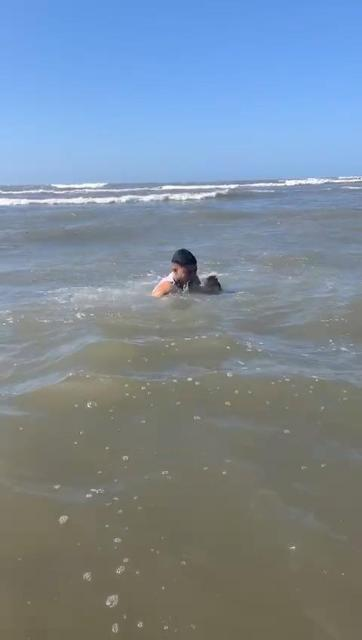drowning: (137, 236, 239, 312)
